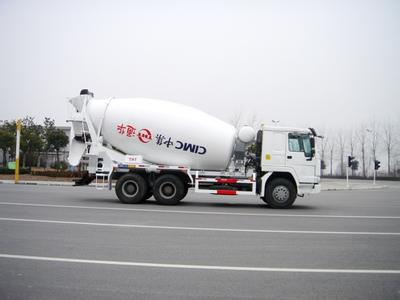truck: (57, 83, 327, 205)
